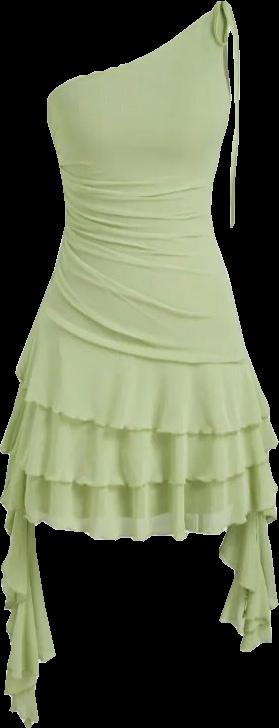Bodice: (47, 1, 231, 232)
Hemline: (14, 366, 271, 440), (0, 439, 278, 493), (0, 496, 274, 547)
Neckline: (46, 0, 227, 102)
Skirt: (0, 231, 277, 727)
